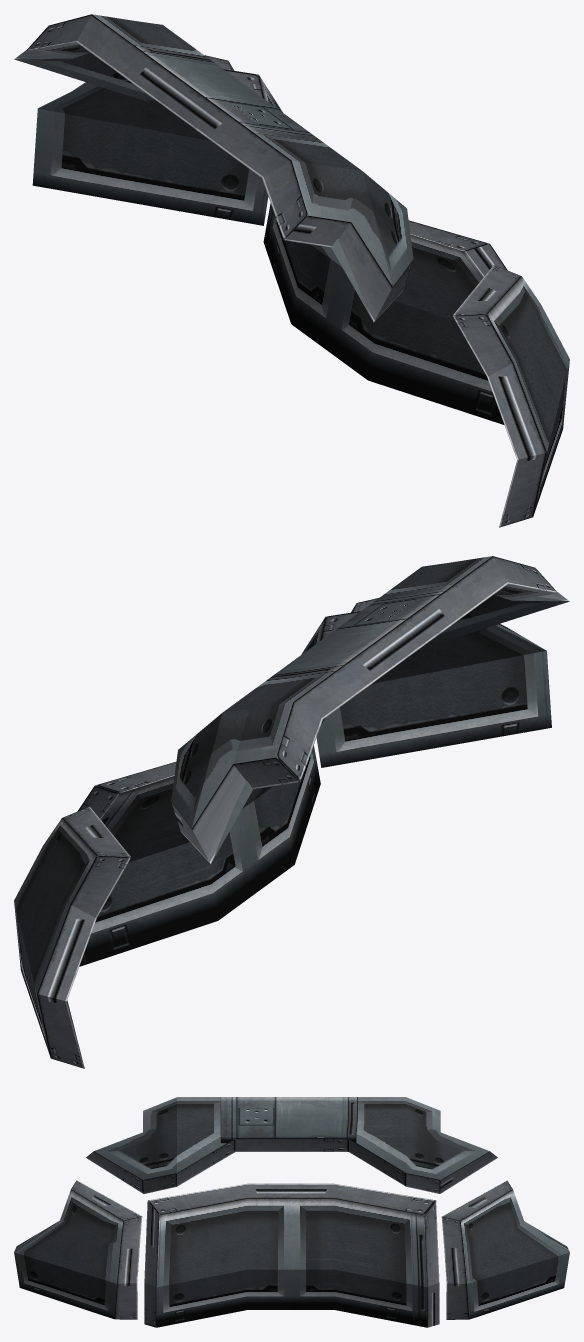
Rendered from heavy_unit_hardened.obj.
The picture shows the model from 3 angles, top to bottom: view 1: azimuth 30°, elevation 25°; view 2: azimuth 150°, elevation 25°; view 3: azimuth 270°, elevation 25°; orthographic projection. The views are drawn at different scales.
Visible parts, largest first — view 1: polySurface10; view 2: polySurface10; view 3: polySurface10.
Boxes of the visible parts, x1=… form: polySurface10: x1=14, y1=14, x2=569, y2=527; polySurface10: x1=14, y1=556, x2=569, y2=1068; polySurface10: x1=14, y1=1097, x2=569, y2=1327.
Size of the model in its own units: 12 by 12.41 by 36.59.
Materials: 1 (1 with a texture image).
